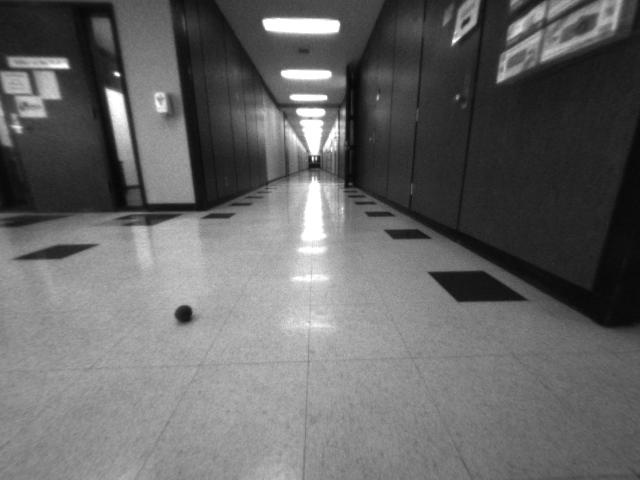dogtoy: (163, 295, 203, 332)
